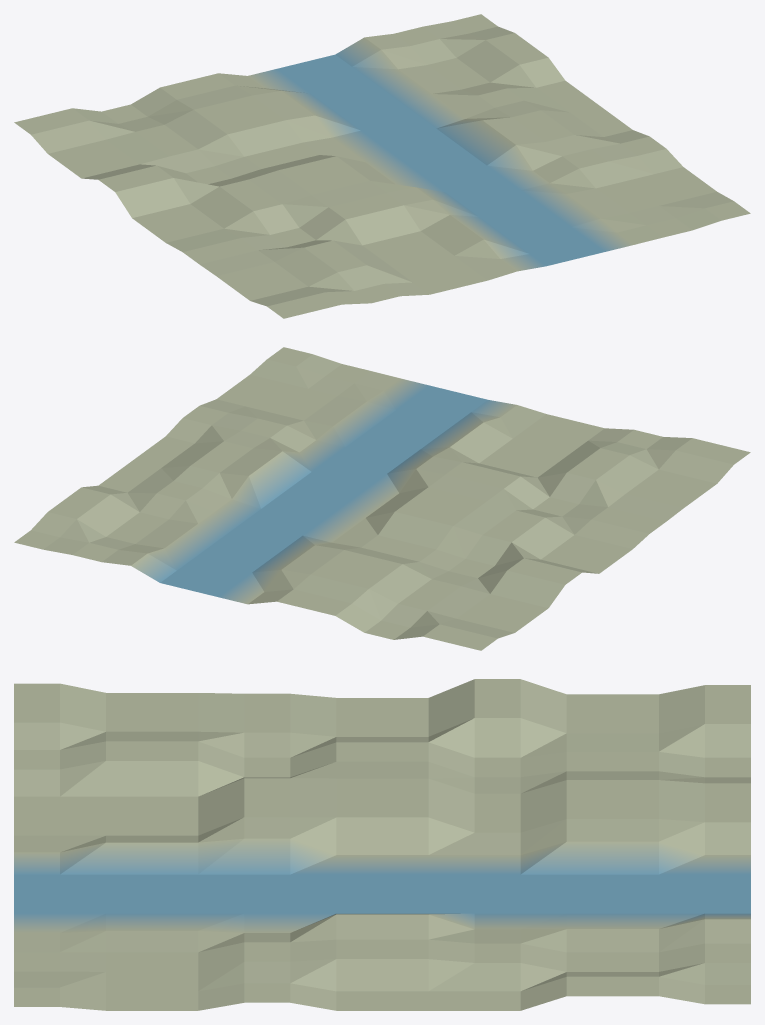
3 views of the same model, one above another, from view 1: azimuth 30°, elevation 25°; view 2: azimuth 150°, elevation 25°; view 3: azimuth 270°, elevation 25° (orthographic). The views are drawn at different scales.
Bounding box in the file's own units: 32 × 0.9714 × 32.
